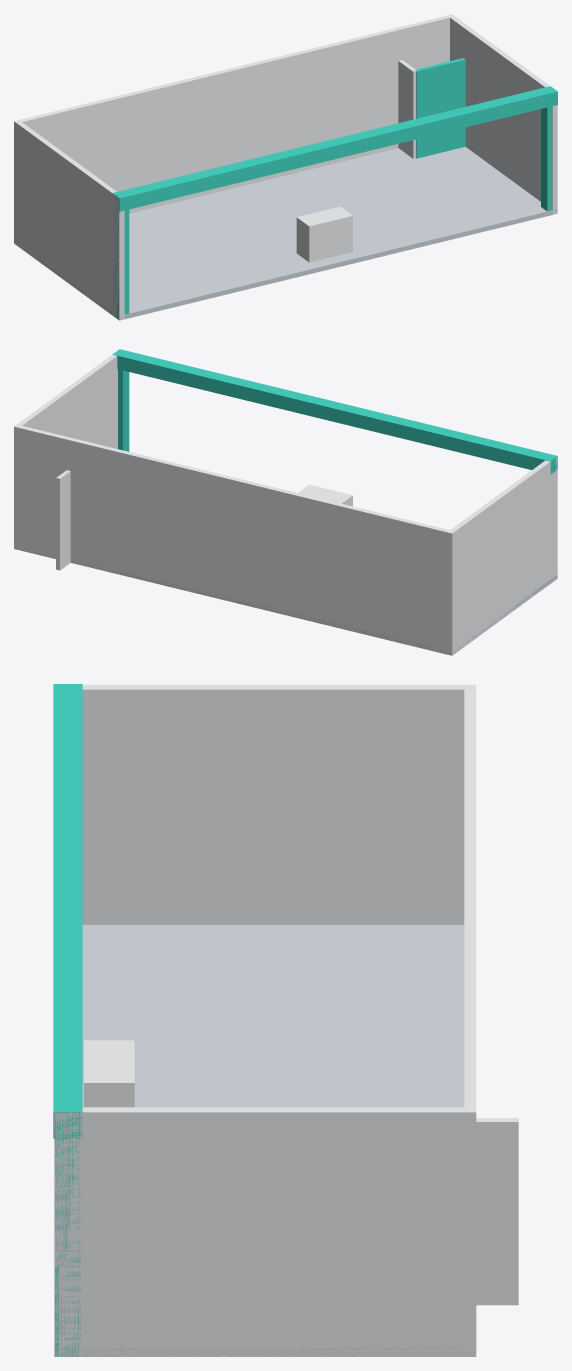
The picture shows the model from 3 angles, top to bottom: view 1: azimuth 30°, elevation 25°; view 2: azimuth 150°, elevation 25°; view 3: azimuth 270°, elevation 25°; orthographic projection. The views are drawn at different scales.
Parts seen in each view (by area): view 1: Exhibition Booth Concept; view 2: Exhibition Booth Concept; view 3: Exhibition Booth Concept.
Part boxes in pixels (bbox=[...]): Exhibition Booth Concept: bbox=[14, 14, 557, 320]; Exhibition Booth Concept: bbox=[14, 349, 557, 655]; Exhibition Booth Concept: bbox=[53, 684, 518, 1356].
Size of the model in its own units: 12 by 3.2 by 5.52.
